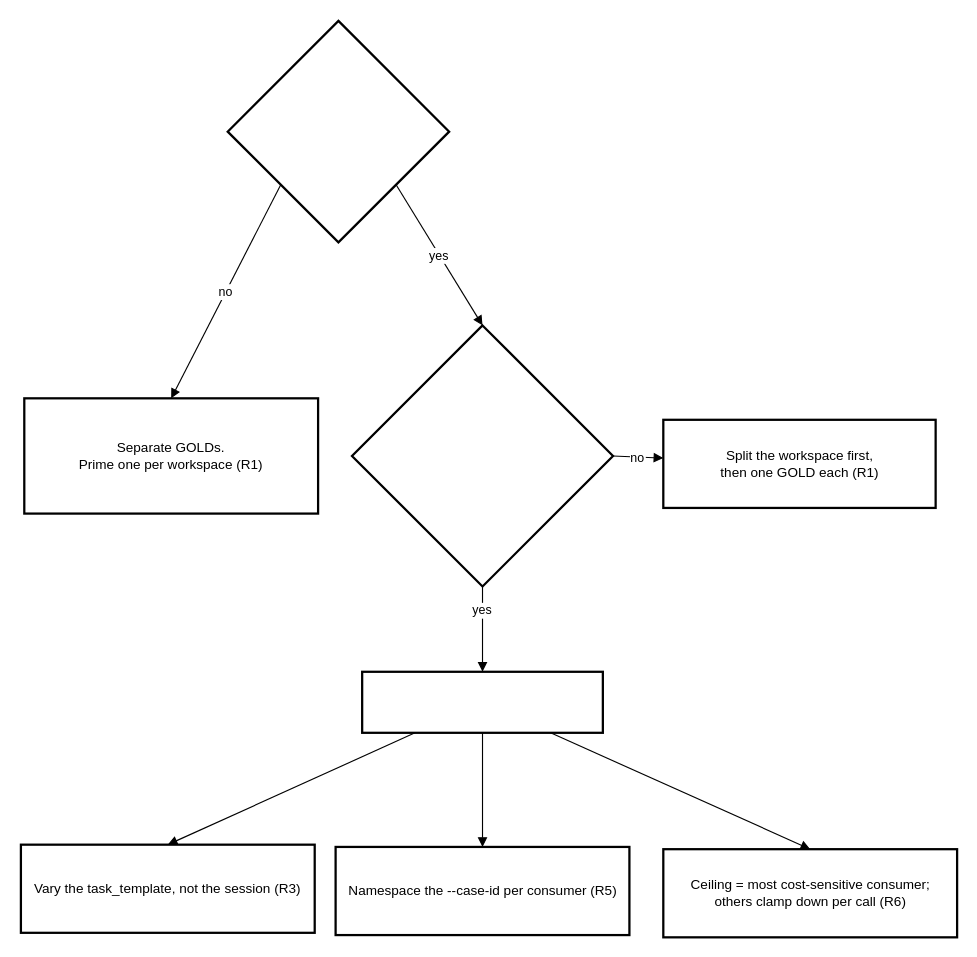
This 977x957 diagram has some shape labels left out. The shapes that lost their labels are listed below. From the top down, each one's centre as x and y in pixels, then its label:
At (x=338, y=131): "Same workspace (same cwd)?".
At (x=482, y=455): "Same primed context needed?".
At (x=481, y=701): "SHARE the GOLD (R1)".
